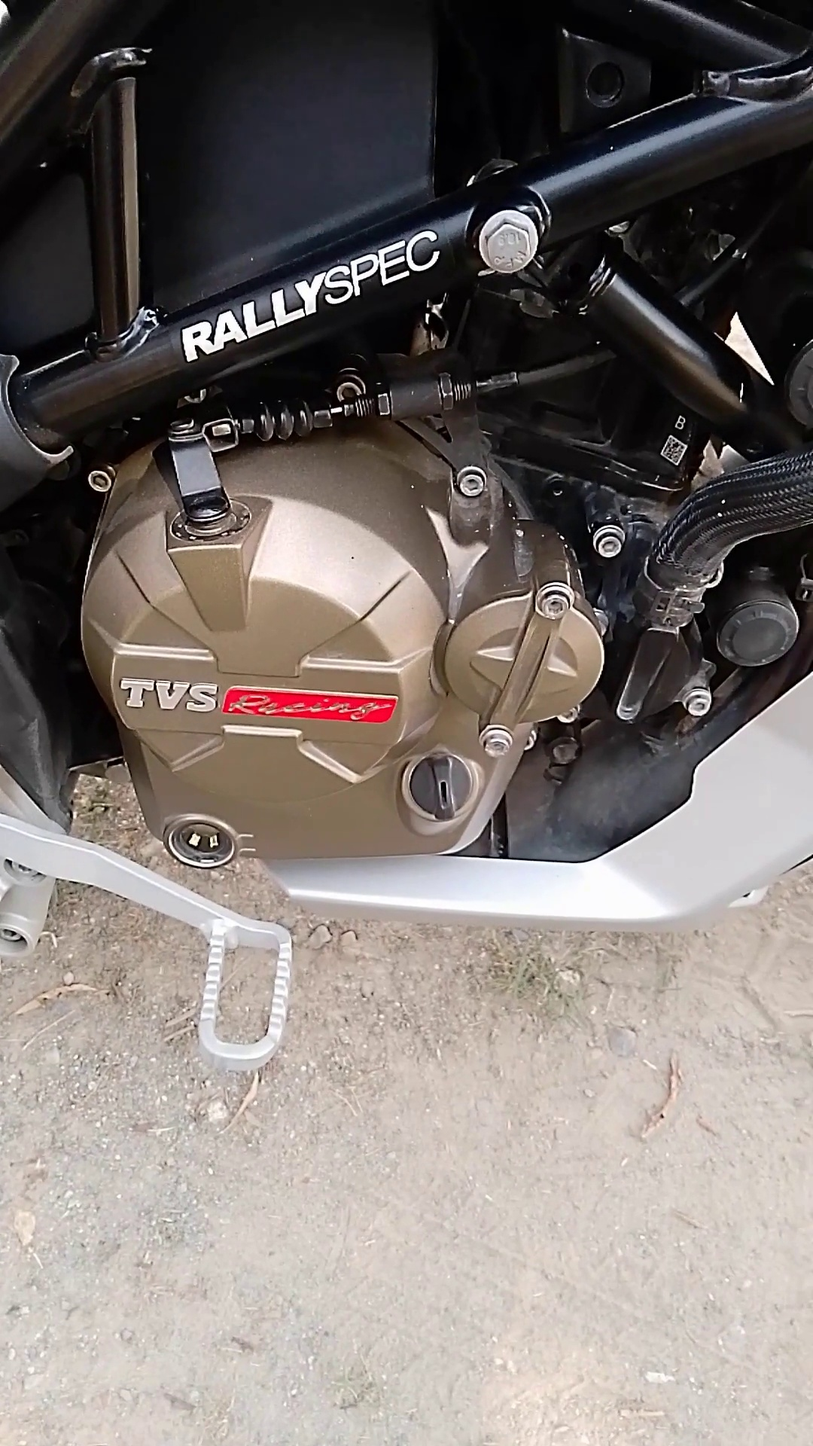engine: (45, 147, 617, 938)
oil_cap: (380, 727, 493, 836)
oil_marker: (139, 776, 279, 892)
